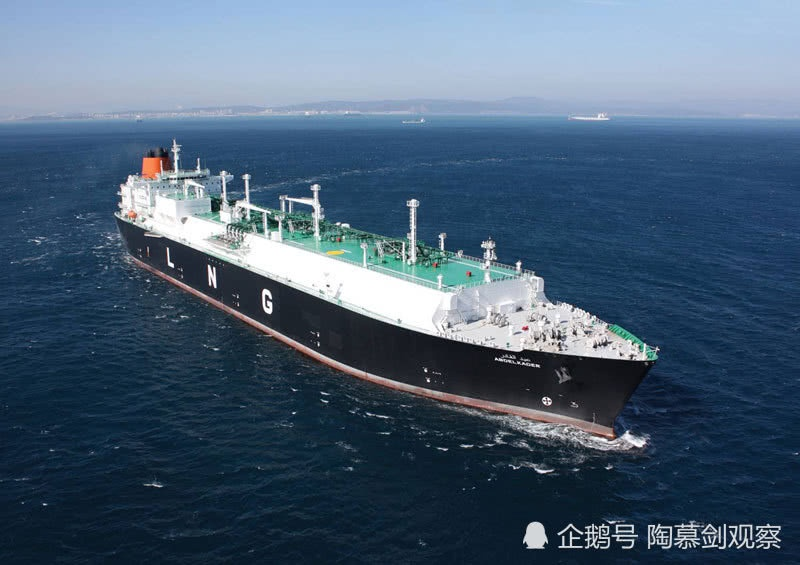Cargoship: (100, 142, 661, 445)
